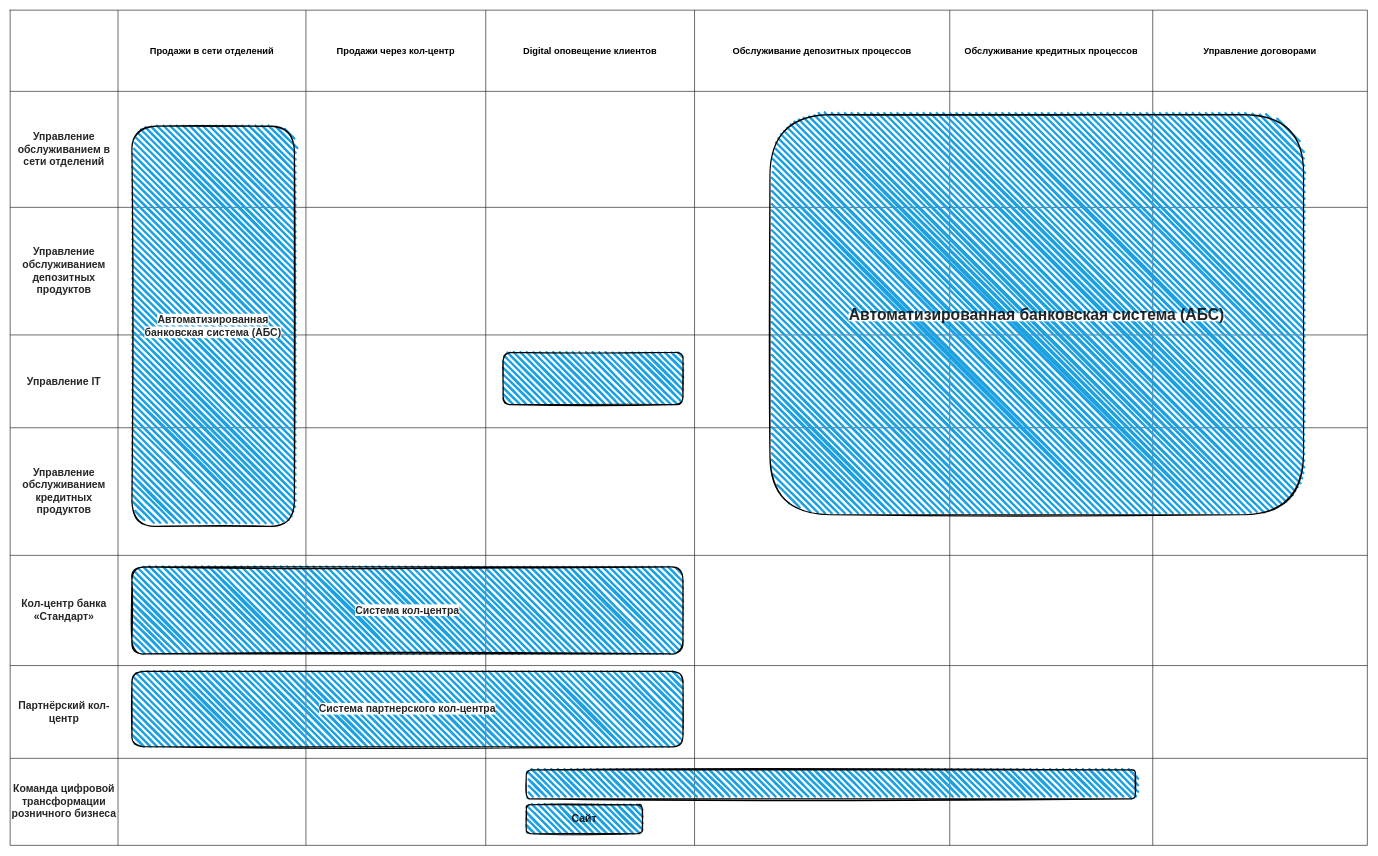
Image size: 1378x856. Some labels were removed from this diagram. Here are the shapes that lost their labels. From the top down, the centre of each, then its label:
At [592,378]: "Смс-шлюз телеком оператора".
At [830,784]: "Интернет банк".
